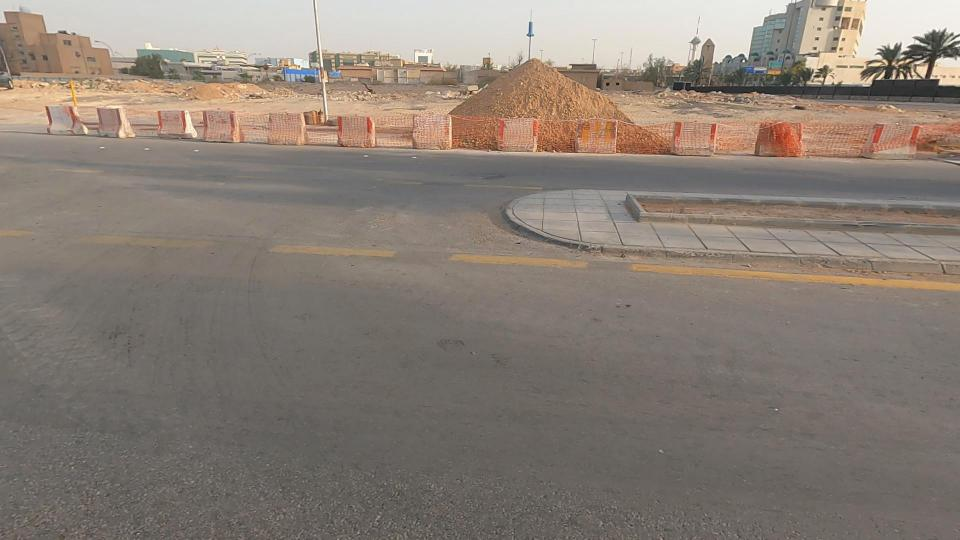SAND_ON_ROAD: (319, 12, 768, 220)
